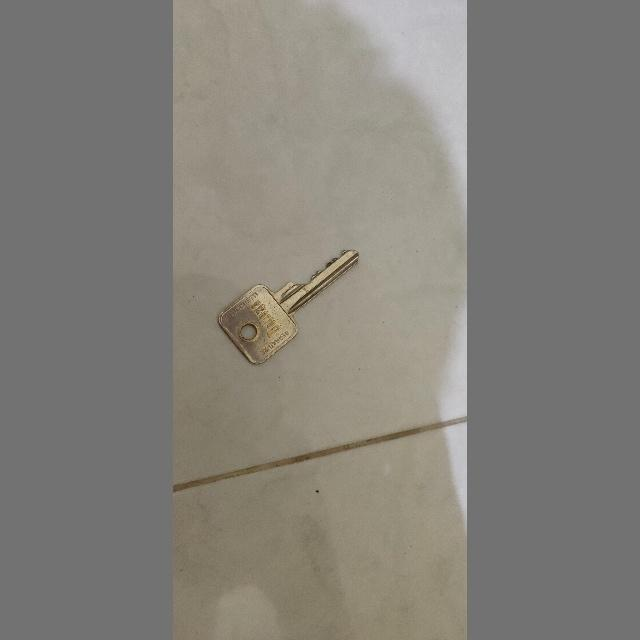Keys: (212, 242, 364, 374)
